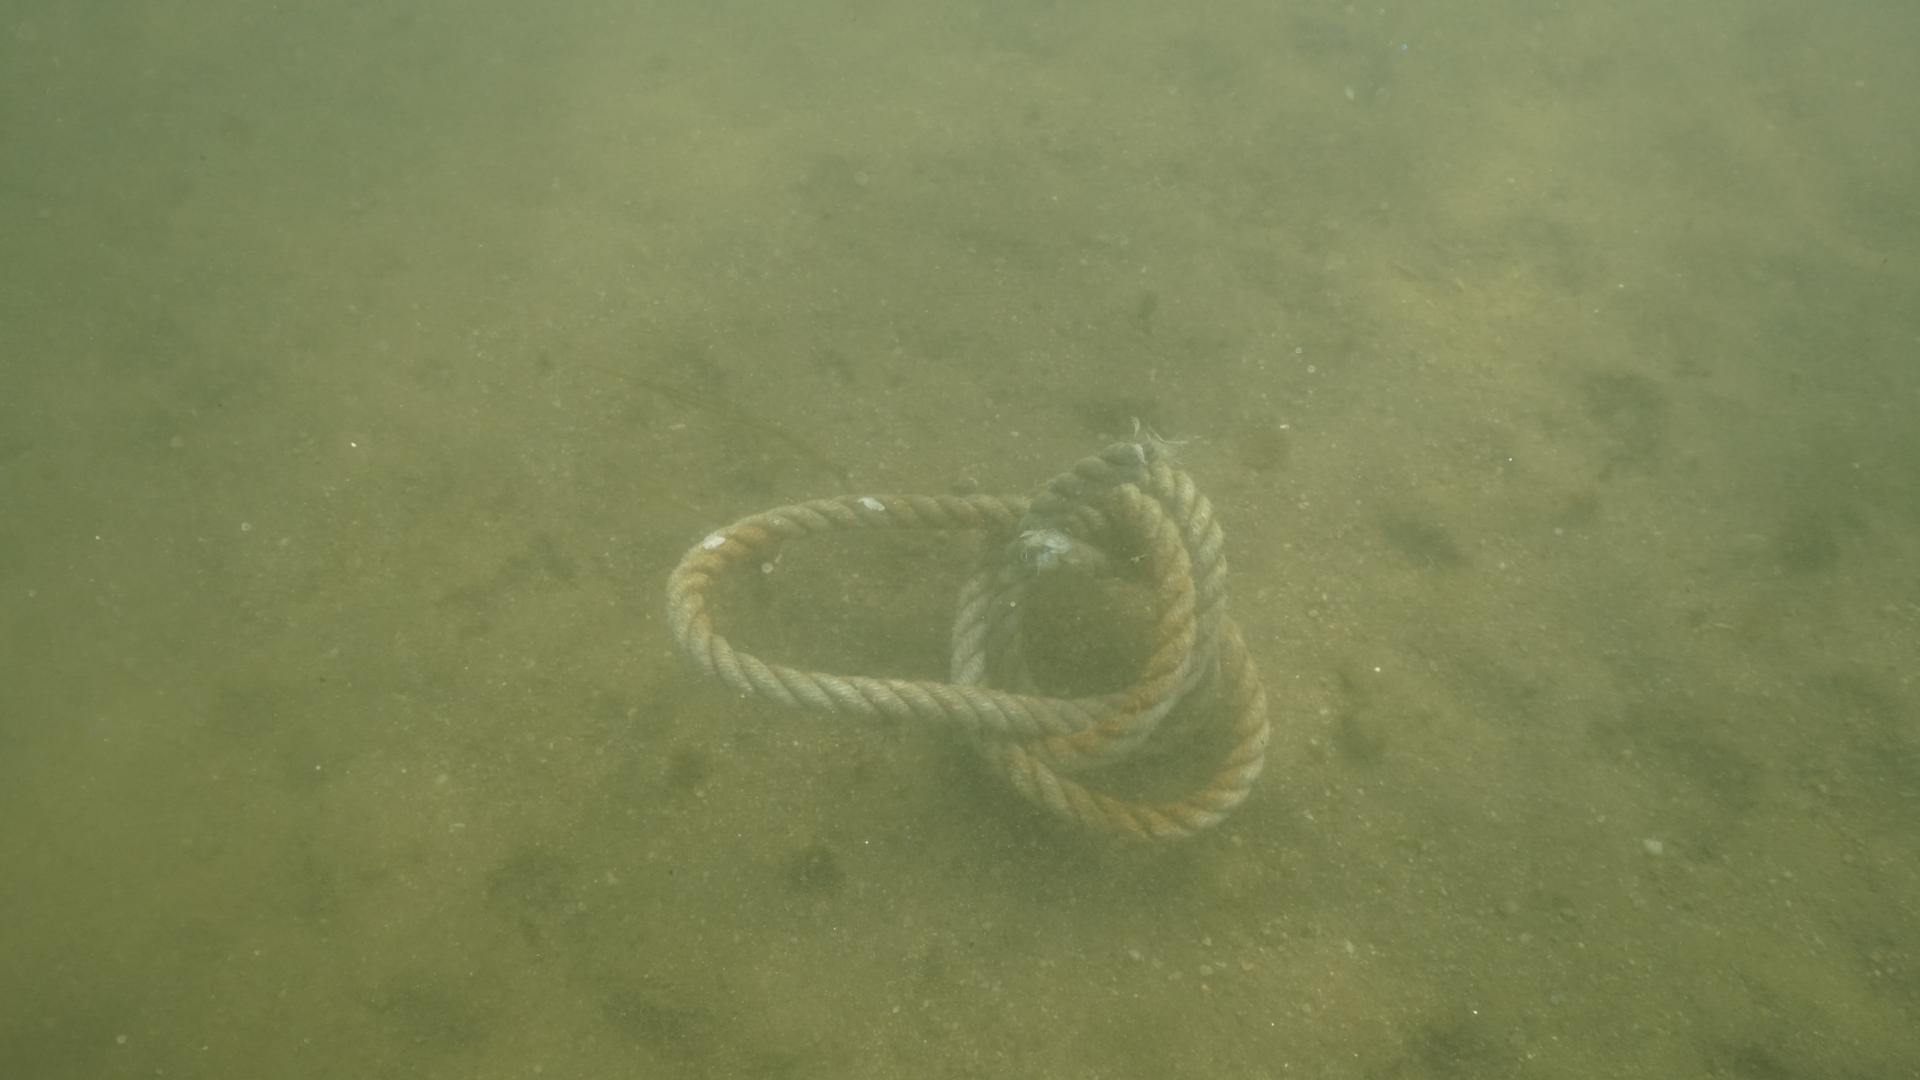bundle of ropes: (659, 430, 1271, 851)
